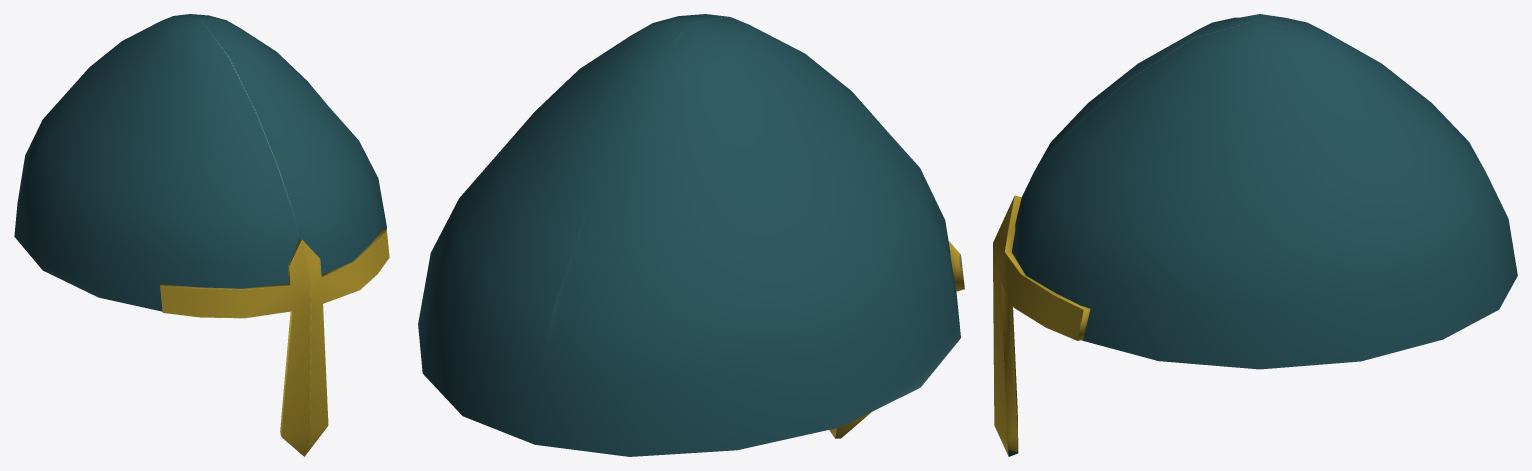
Rendered from HelmetVar1.fbx.
The picture shows the model from 3 angles, left to right: view 1: azimuth 30°, elevation 25°; view 2: azimuth 150°, elevation 25°; view 3: azimuth 270°, elevation 25°; orthographic projection. The views are drawn at different scales.
Parts seen in each view (by area): view 1: HelmetVar1; view 2: HelmetVar1; view 3: HelmetVar1.
Boxes of the visible parts, left/top/right/bottom form: HelmetVar1: left=14, top=14, right=389, bottom=456; HelmetVar1: left=418, top=14, right=964, bottom=456; HelmetVar1: left=993, top=14, right=1517, bottom=456.
Size of the model in its own units: 25.56 by 27.85 by 30.26.
